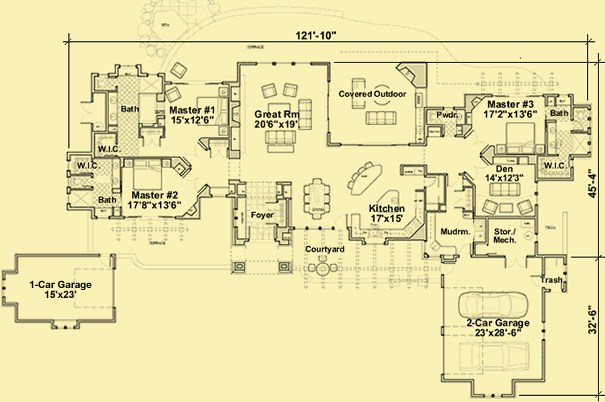bed: (503, 120, 537, 156), (194, 95, 232, 127), (131, 158, 164, 193)
dining table: (301, 176, 333, 222)
door: (183, 139, 209, 167), (466, 155, 489, 180), (468, 128, 490, 154), (186, 169, 206, 194), (79, 100, 96, 126), (504, 254, 530, 271), (440, 259, 457, 276), (453, 188, 466, 209), (457, 242, 472, 256), (447, 173, 461, 188), (530, 273, 543, 288), (423, 176, 438, 189)
large sofa: (348, 76, 369, 111), (260, 129, 302, 146), (363, 110, 399, 128), (297, 97, 314, 132), (487, 183, 523, 199)
small sink: (545, 120, 559, 156), (107, 92, 118, 125), (113, 159, 120, 188)
small sofa: (169, 59, 188, 81), (282, 81, 302, 101), (261, 82, 281, 99), (481, 197, 497, 218), (518, 196, 534, 216), (166, 85, 181, 103)
windows: (255, 59, 314, 69), (538, 319, 549, 343), (54, 323, 76, 334), (1, 276, 10, 302), (483, 391, 503, 402)
